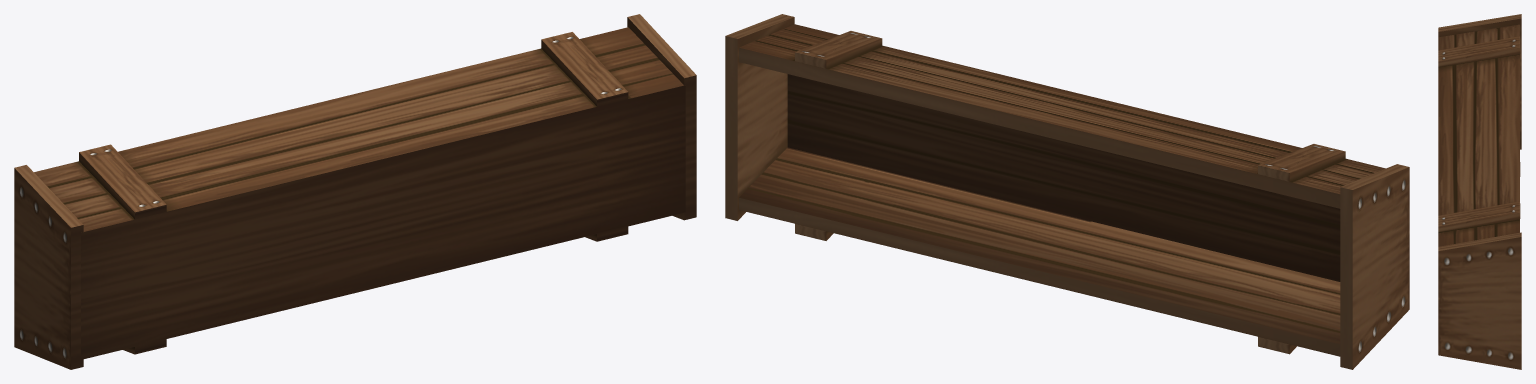
File: Trough.FBX
The picture shows the model from 3 angles, left to right: view 1: azimuth 30°, elevation 25°; view 2: azimuth 150°, elevation 25°; view 3: azimuth 270°, elevation 25°; orthographic projection. The views are drawn at different scales.
Parts seen in each view (by area): view 1: Trough; view 2: Trough; view 3: Trough.
Boxes of the visible parts, x1,y1,x2,y2 form: Trough: [14, 14, 696, 369]; Trough: [725, 14, 1409, 369]; Trough: [1438, 14, 1521, 369].
Size of the model in its own units: 4.55 by 1.26 by 0.7156.
